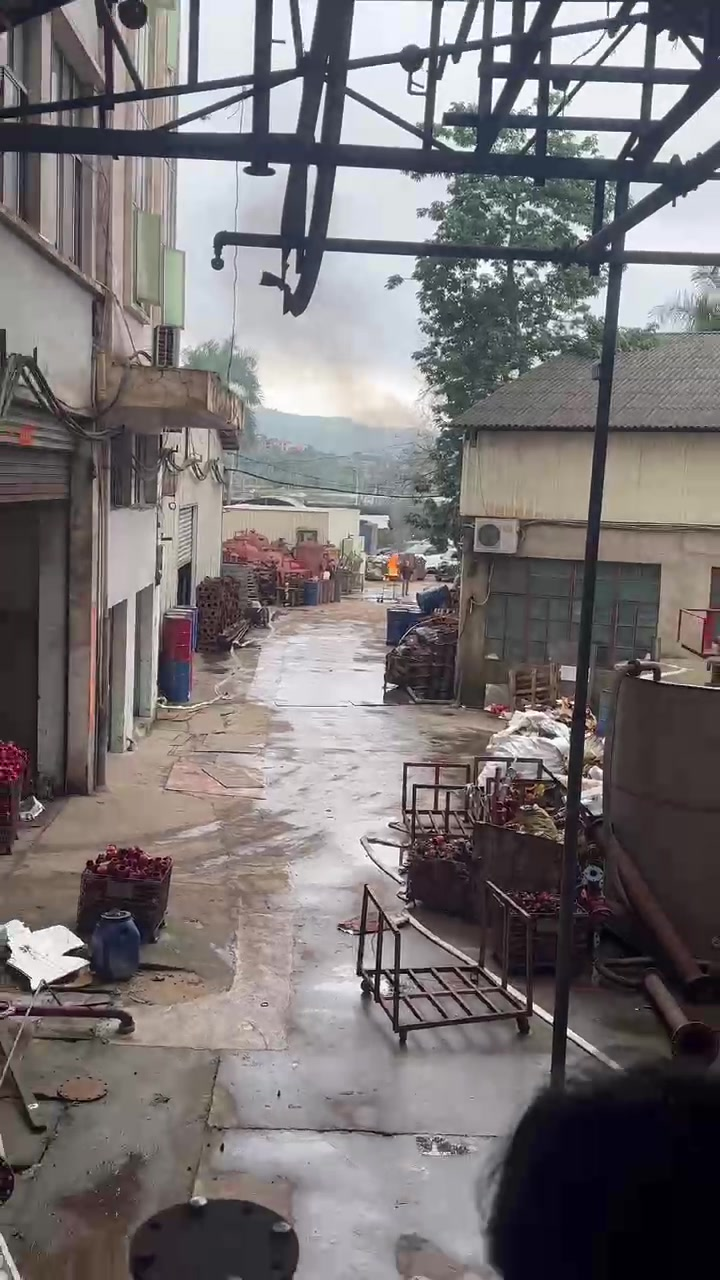fire: (387, 553, 397, 574)
